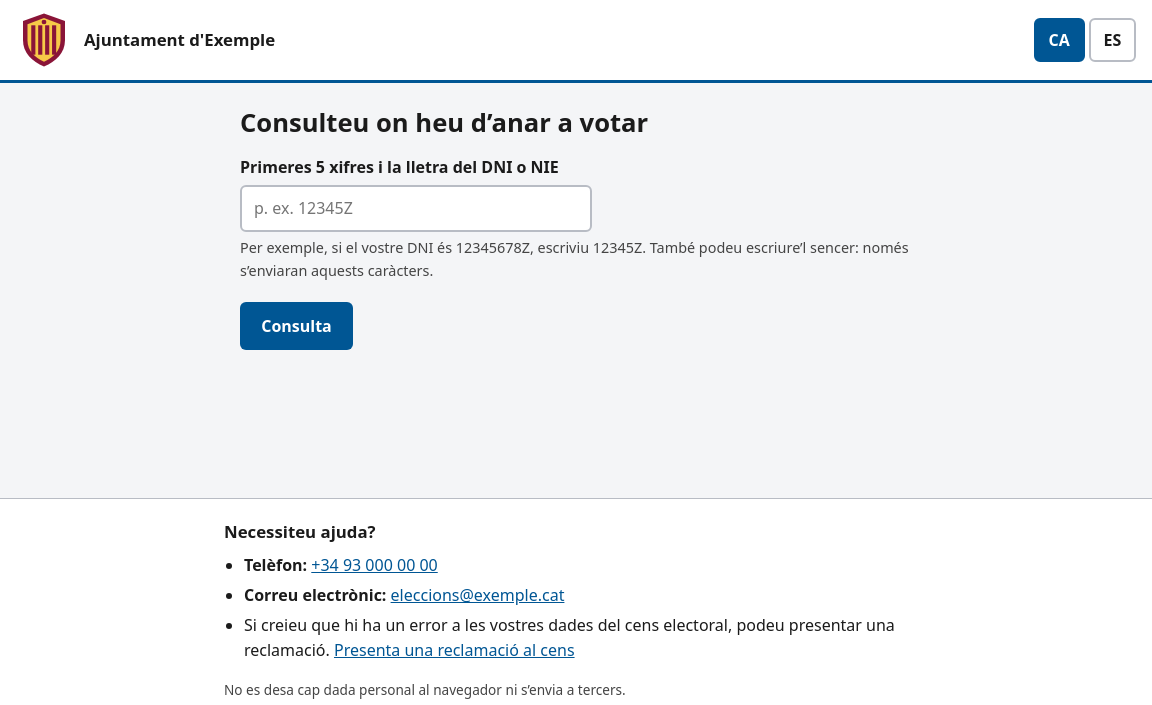
només la part indexada del document › amb firstChars i addLetter envia les primeres xifres i la lletra
In the field labelled "Primeres 5 xifres i la lletra del DNI o NIE": point(416, 209) [240,185,592,232], type "12345678Z"
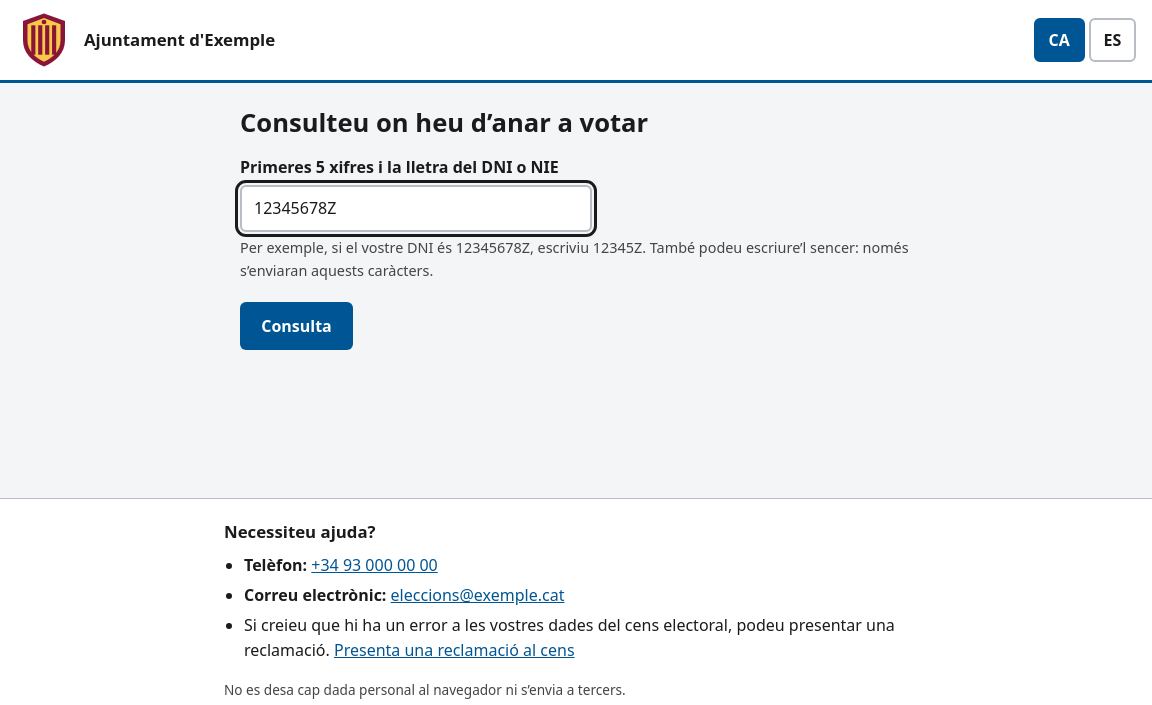
Click the button "Consulta": point(296, 326) [240,302,353,350]
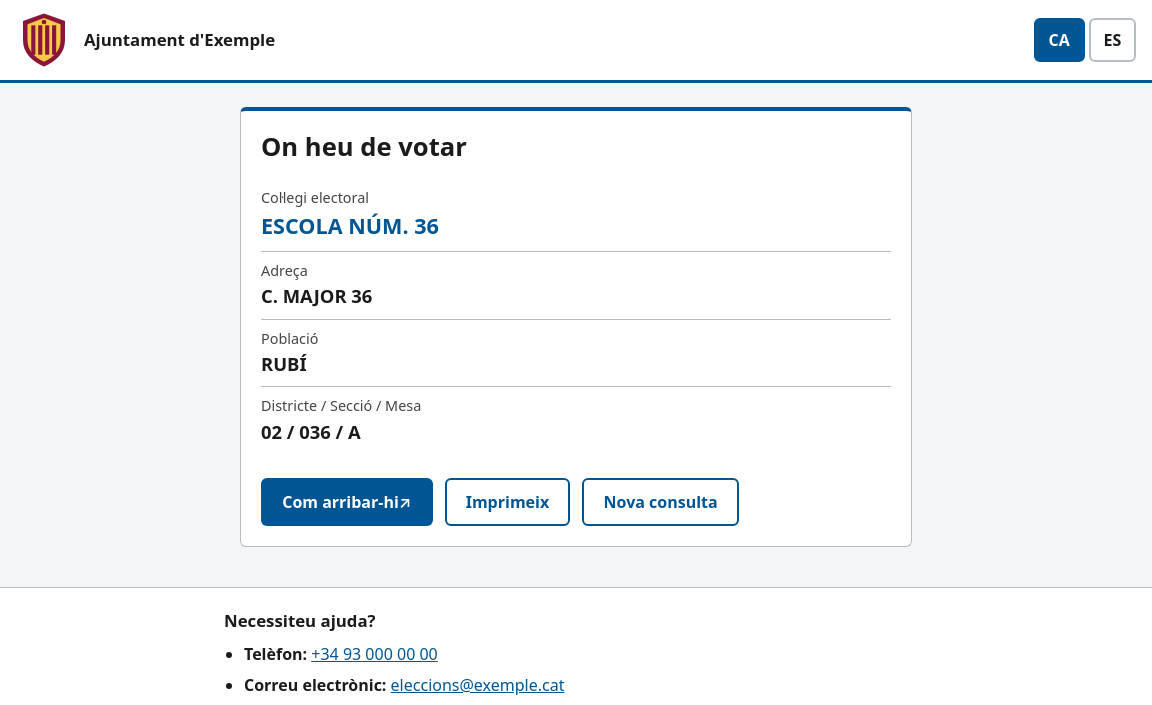
Expected: the text "ESCOLA NÚM. 36" is shown, [261,211,439,240]
